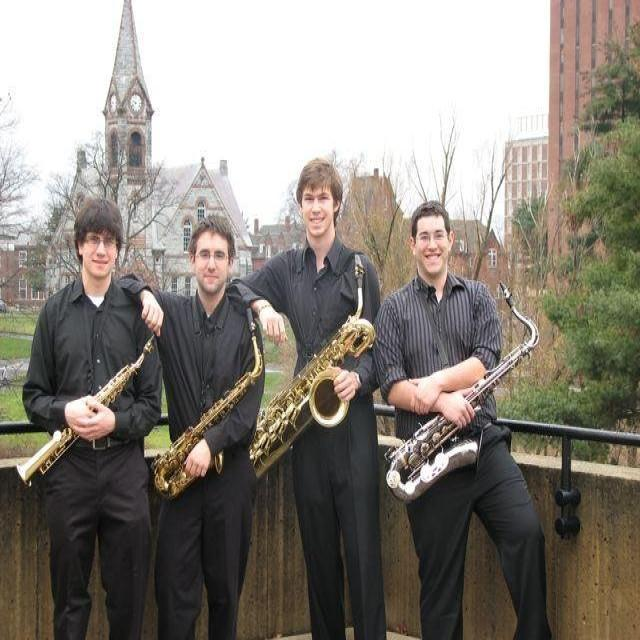saxophone: (247, 253, 377, 479), (152, 307, 264, 501)
